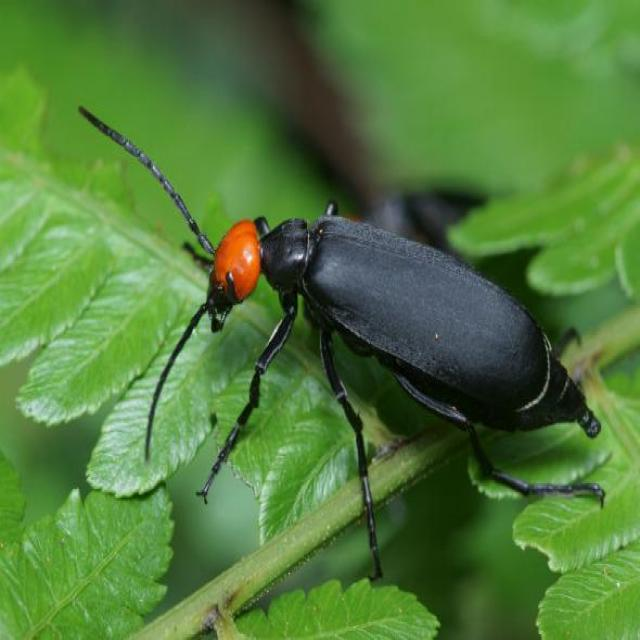BlisterBeetle-Adult-: (73, 98, 608, 585)
